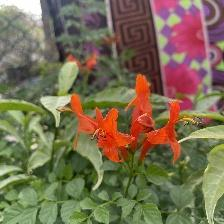honeysuckle: (143, 100, 206, 173), (77, 106, 135, 166)
